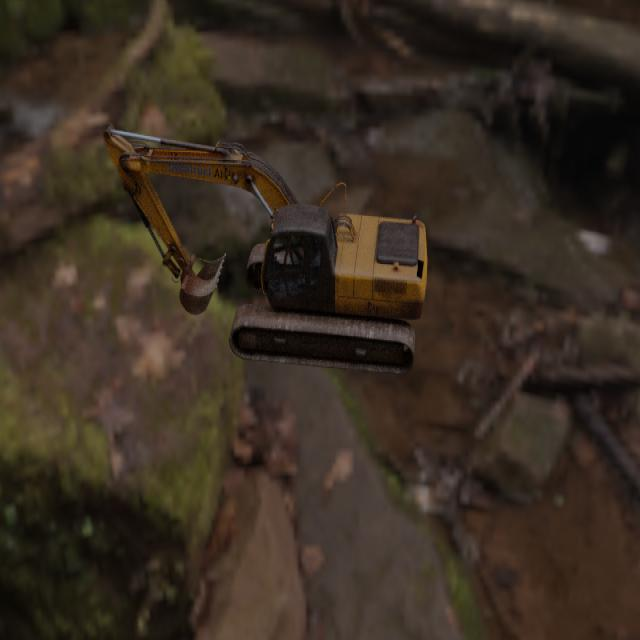excavator: (102, 123, 427, 374)
